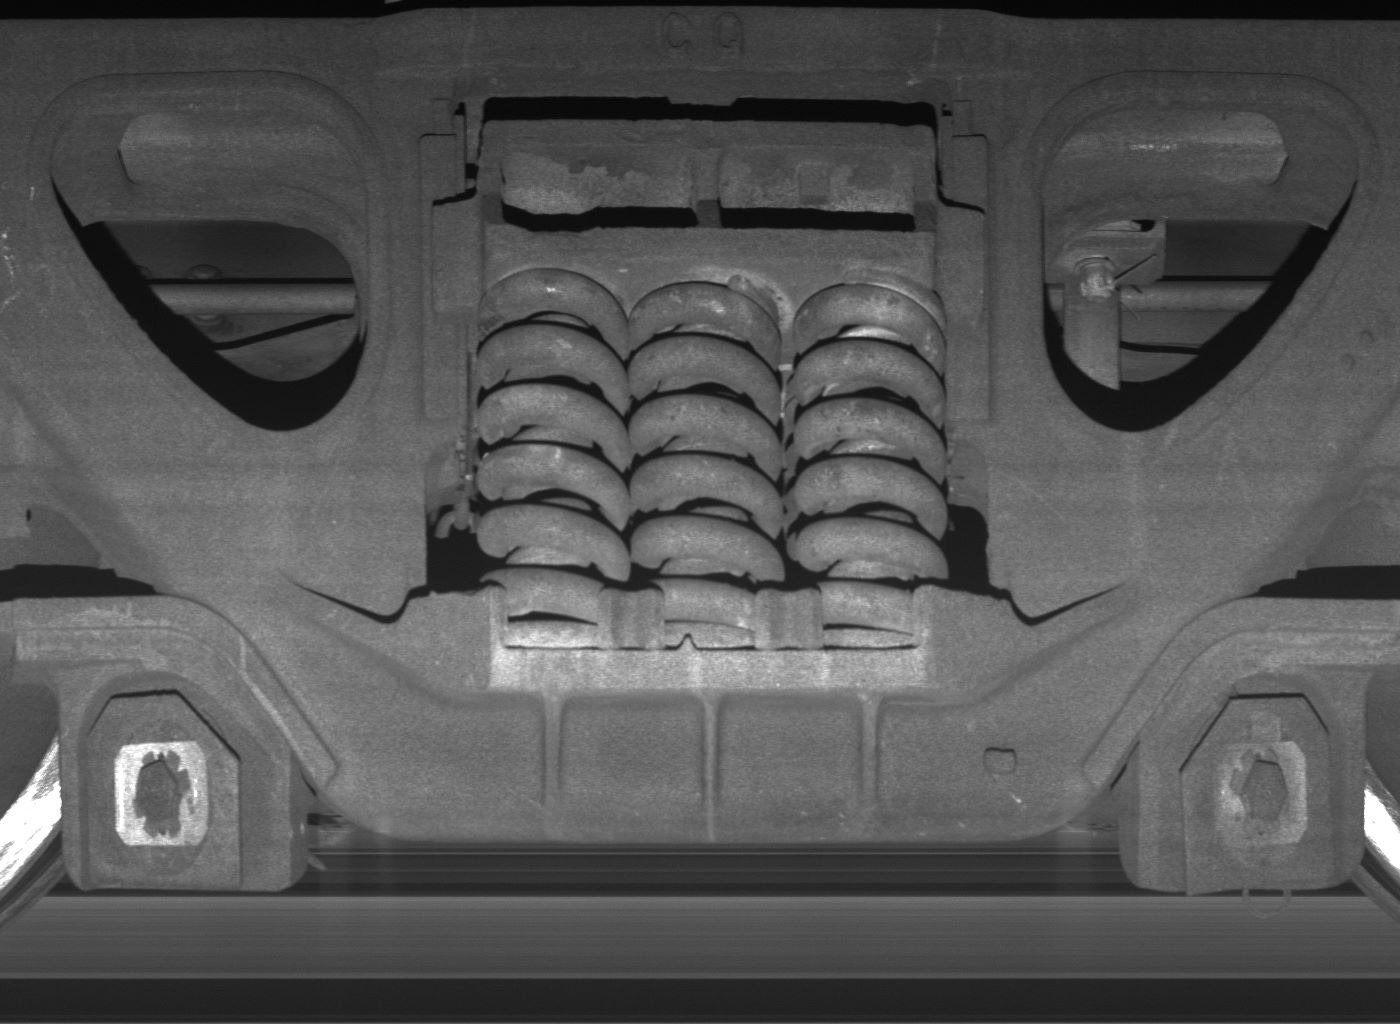normal: (59, 663, 292, 892), (1138, 664, 1366, 899)
